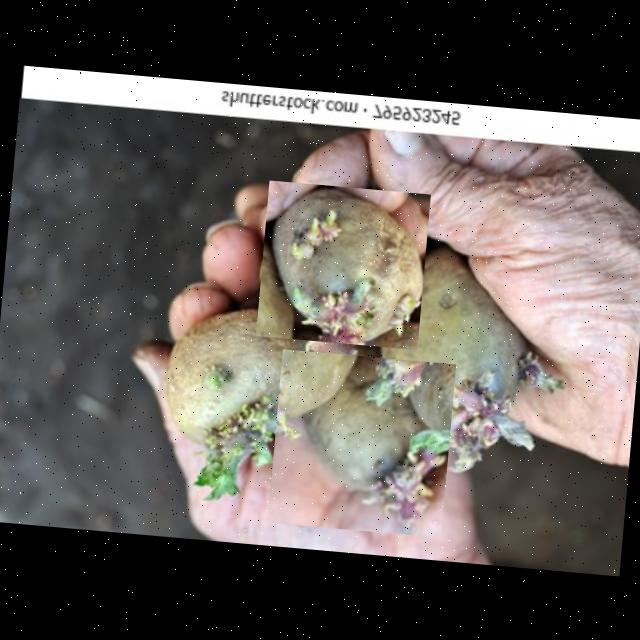Sprouted potato: (362, 237, 569, 477), (146, 294, 336, 512), (266, 348, 455, 536), (254, 178, 430, 348)
